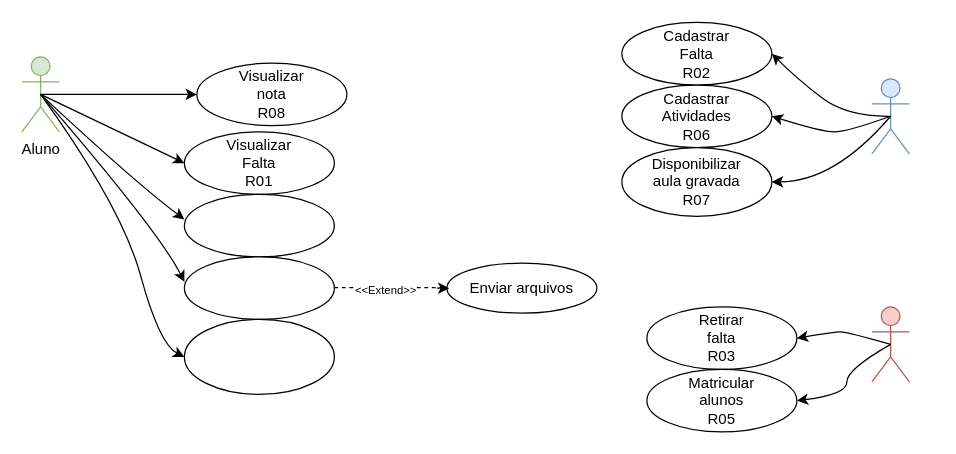
Image size: 956x454. Some labels were removed from this diagram. The centre of each missing label's shape, as x and y in pixels:
"Coordenador" belongs at (890,344).
"Iniciar chat com coordenador R10" belongs at (258,356).
"Professor" belongs at (890,116).
"Realizar matrícula R04" belongs at (258,225).
"Responder Atividades R09" belongs at (258,287).
